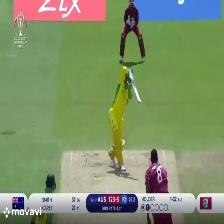batsman: (107, 65, 141, 174)
